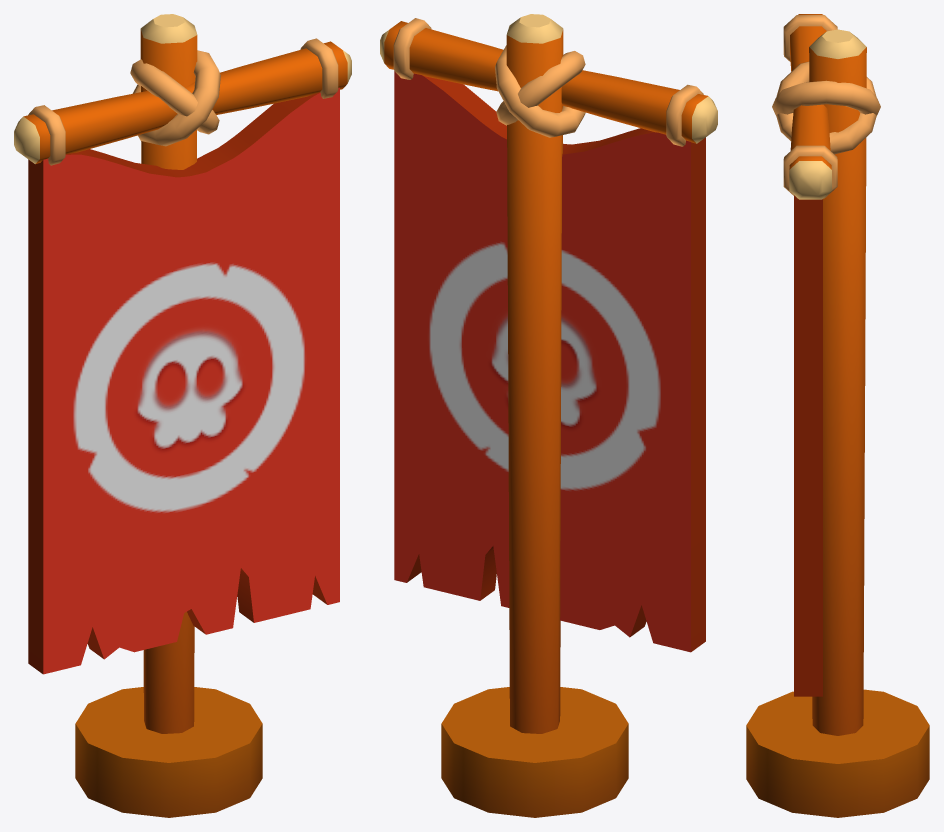
The model's file is Prop_Flag_Enemy_Base_01.fbx.
3 renders of one model, left to right at view 1: azimuth 30°, elevation 25°; view 2: azimuth 150°, elevation 25°; view 3: azimuth 270°, elevation 25°, orthographic.
Visible parts, largest first — view 1: Prop_Flag_Enemy_Base_01; view 2: Prop_Flag_Enemy_Base_01; view 3: Prop_Flag_Enemy_Base_01.
Boxes of the visible parts, bbox=[...] form: Prop_Flag_Enemy_Base_01: bbox=[14, 14, 351, 817]; Prop_Flag_Enemy_Base_01: bbox=[380, 14, 717, 817]; Prop_Flag_Enemy_Base_01: bbox=[746, 14, 929, 817].
Bounding box in the file's own units: 54.82 × 122 × 27.27.
